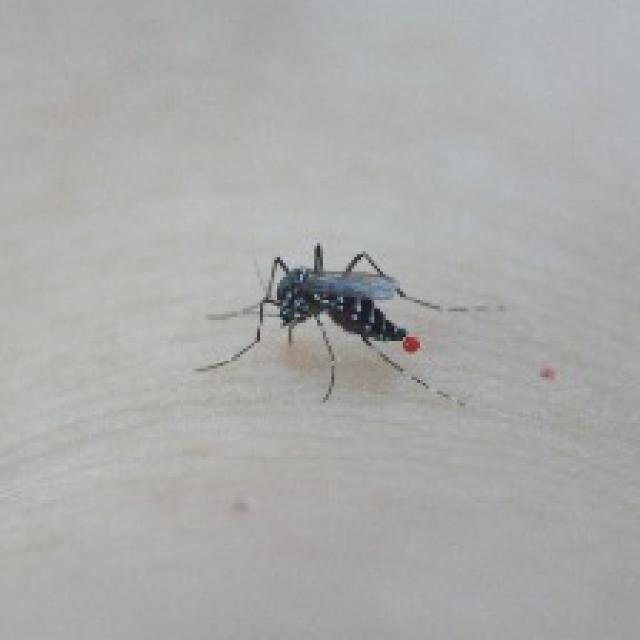aedes: (191, 237, 503, 406)
